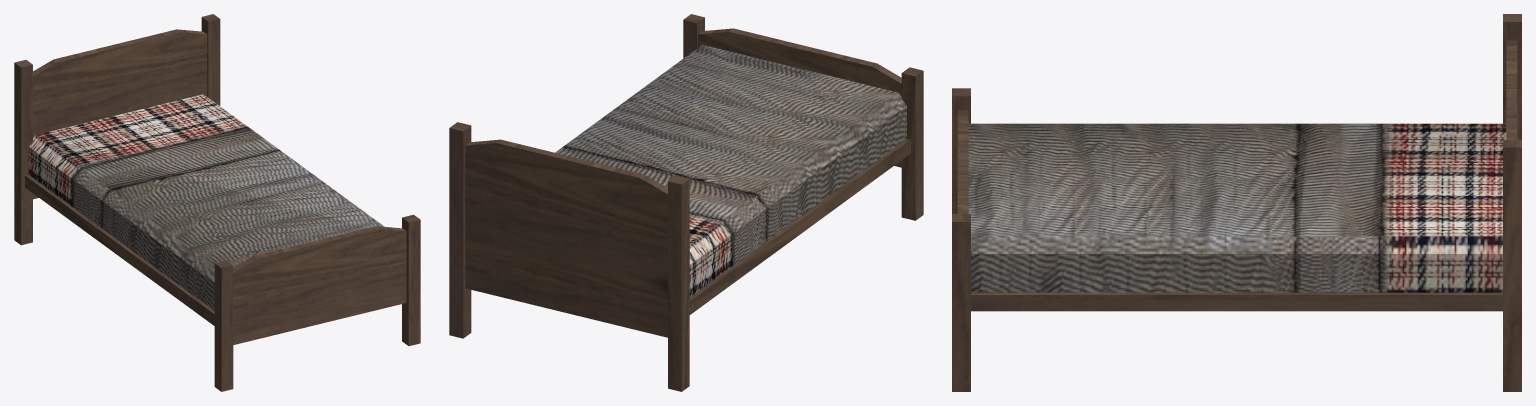
File: cama_a.glb
3 renders of one model, left to right at view 1: azimuth 30°, elevation 25°; view 2: azimuth 150°, elevation 25°; view 3: azimuth 270°, elevation 25°, orthographic. The views are drawn at different scales.
Parts seen in each view (by area): view 1: cama_a; view 2: cama_a; view 3: cama_a.
Part boxes in pixels (x1,y1,x2,y2): cama_a: [14, 14, 420, 391]; cama_a: [449, 14, 923, 391]; cama_a: [952, 14, 1521, 391].
Size of the model in its own units: 1.43 by 1.22 by 2.57.
1 material, 1 textured.
